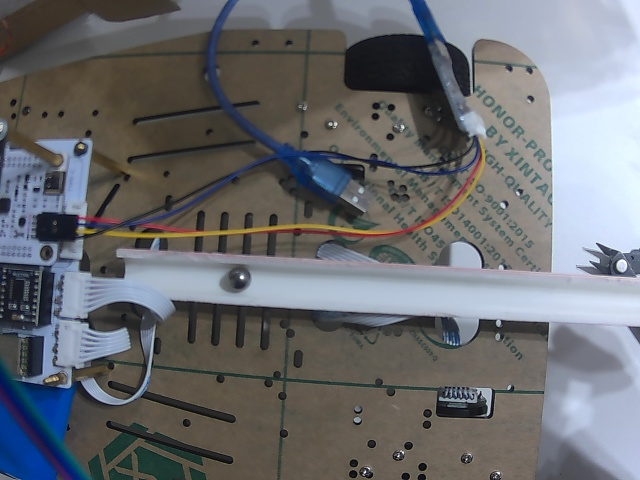steelball: (225, 266, 251, 293)
